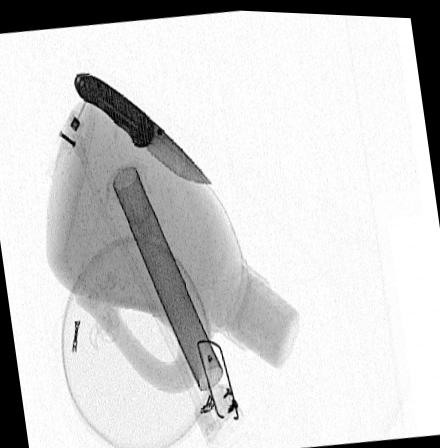Knife: (73, 69, 213, 182)
